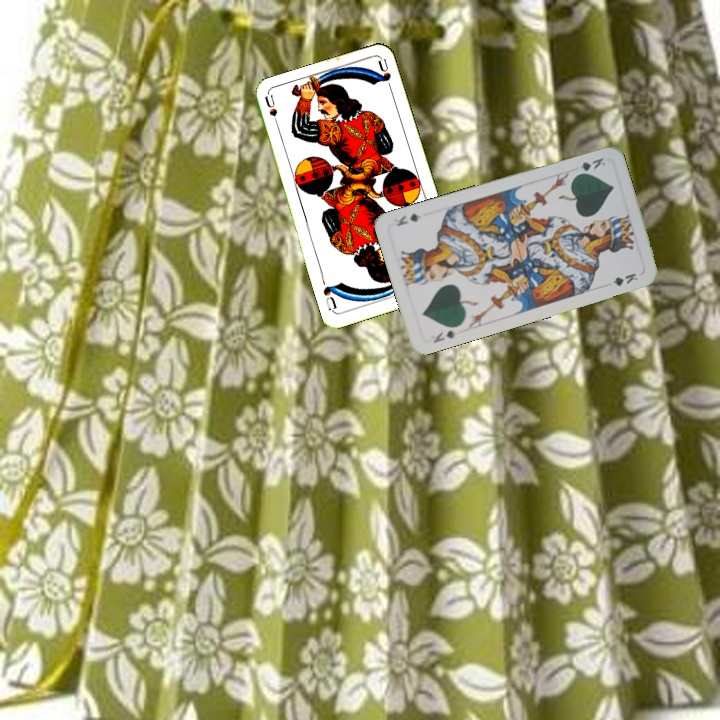GK: (571, 153, 608, 178), (429, 326, 458, 345)
SU: (261, 92, 282, 133)
